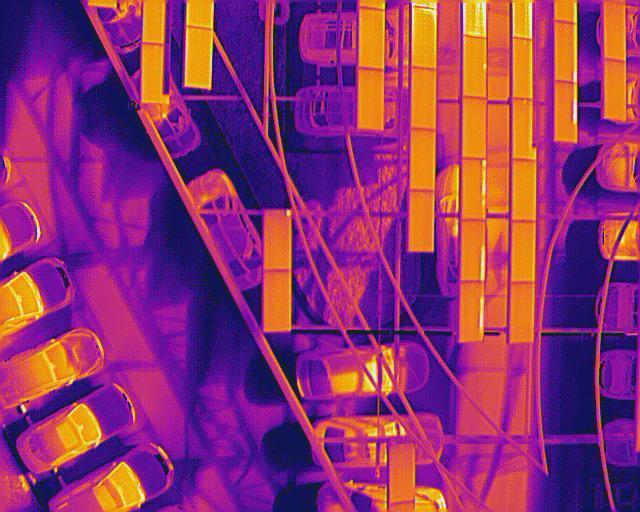Cell: (264, 209, 292, 270), (462, 34, 488, 97)
No-Anomaly: (407, 191, 434, 253), (410, 130, 437, 191), (358, 69, 385, 130), (184, 26, 211, 87), (264, 270, 290, 332), (509, 283, 535, 344), (411, 68, 437, 129), (390, 445, 416, 504), (461, 99, 486, 160), (359, 8, 384, 69), (511, 222, 536, 282), (512, 160, 536, 221), (141, 43, 164, 103), (512, 99, 534, 158), (604, 59, 626, 118), (604, 3, 626, 62), (511, 38, 532, 97)
Unclassified: (458, 280, 485, 342), (412, 7, 437, 70), (461, 220, 485, 282), (554, 82, 578, 142), (462, 160, 486, 219), (554, 22, 577, 81)
